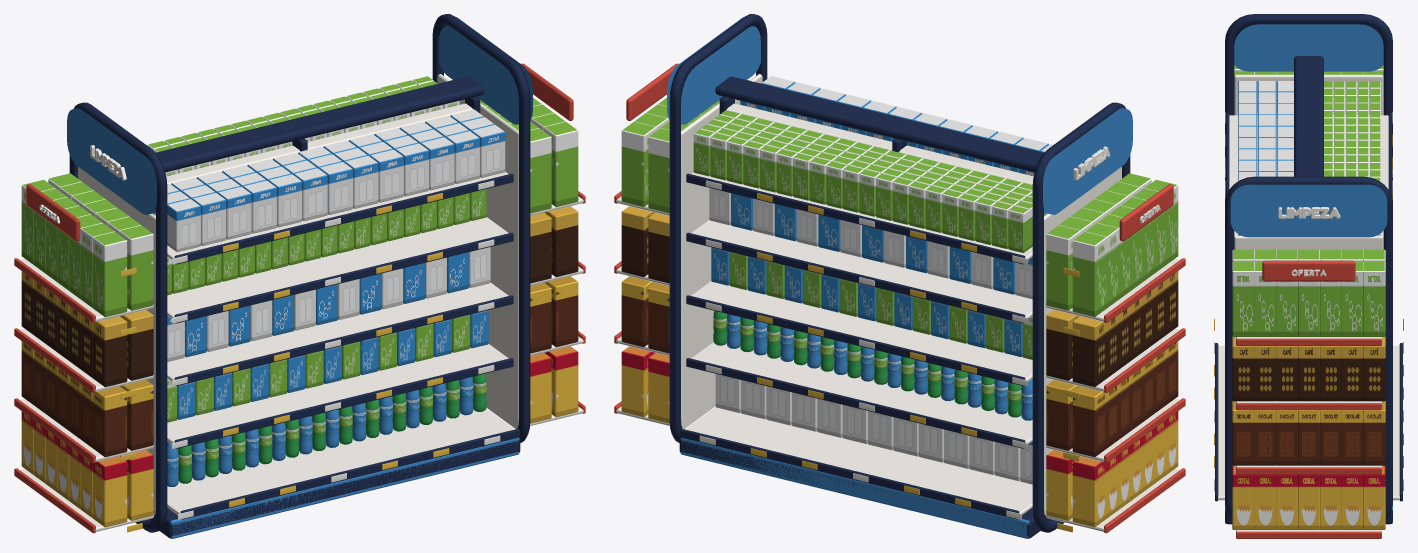
The model's file is shelf-cleaning.fbx.
The picture shows the model from 3 angles, left to right: view 1: azimuth 30°, elevation 25°; view 2: azimuth 150°, elevation 25°; view 3: azimuth 270°, elevation 25°; orthographic projection. The views are drawn at different scales.
Parts seen in each view (by area): view 1: Body, Anim Fill 3, Anim Fill 0, Anim Fill 2, Anim Fill 1; view 2: Body, Anim Fill 3, Anim Fill 0, Anim Fill 1, Anim Fill 2; view 3: Body, Anim Fill 0, Anim Fill 2, Anim Fill 3, Anim Fill 1.
Part boxes in pixels (x1,y1,x2,y2): Body: (14, 14, 585, 538); Anim Fill 3: (21, 141, 232, 527); Anim Fill 0: (346, 76, 578, 428); Anim Fill 2: (164, 120, 327, 473); Anim Fill 1: (247, 96, 406, 451); Body: (614, 14, 1185, 538); Anim Fill 3: (958, 144, 1178, 527); Anim Fill 0: (621, 76, 871, 431); Anim Fill 1: (776, 101, 947, 450); Anim Fill 2: (876, 119, 1048, 474); Body: (1214, 14, 1403, 538); Anim Fill 0: (1232, 233, 1385, 529); Anim Fill 2: (1238, 103, 1380, 149); Anim Fill 3: (1234, 65, 1383, 111); Anim Fill 1: (1238, 148, 1380, 181).
Size of the model in its own units: 2.85 by 2.07 by 1.02.
